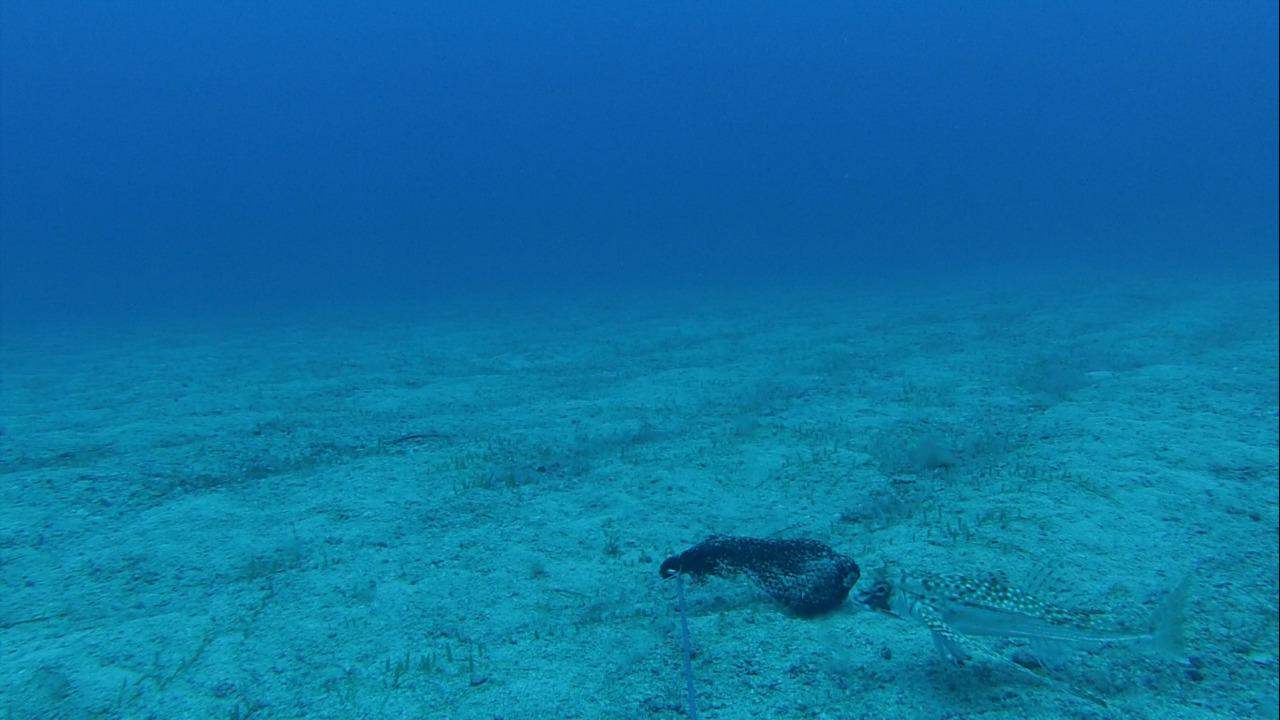dactylopterus: (860, 560, 1194, 702)
